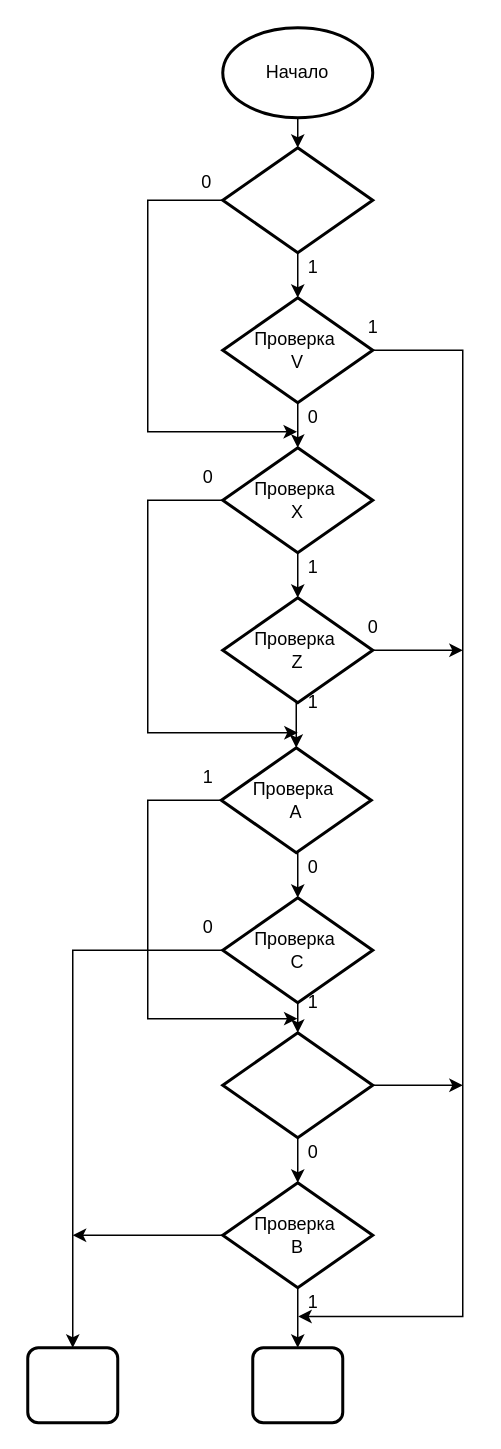
The diagram is 501 pixels wide and 1449 high, and some of its shapes have lost their labels. Here are the shapes that lost their labels. From the top down, the centre of each, then its label:
At point (297, 200): "Проверка W".
At point (297, 1084): "Проверка U".
At point (72, 1385): "Q = 1".
At point (297, 1385): "Q = 0".
